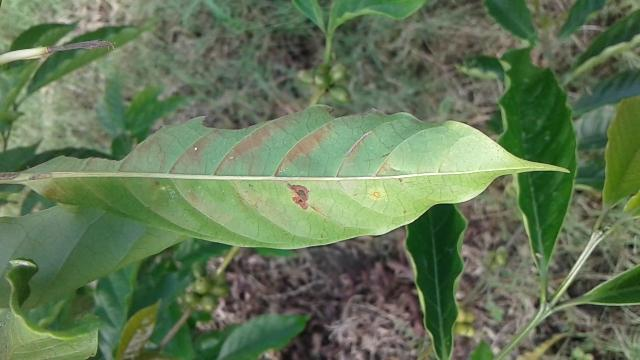red_spider_mite: (22, 106, 570, 248)
